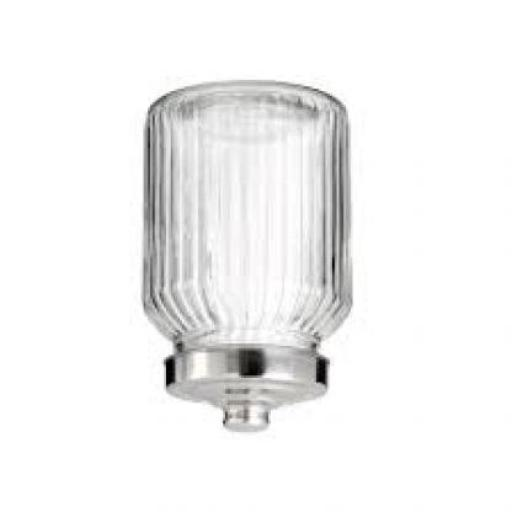glass: (146, 82, 355, 357)
metal: (166, 351, 330, 434)
